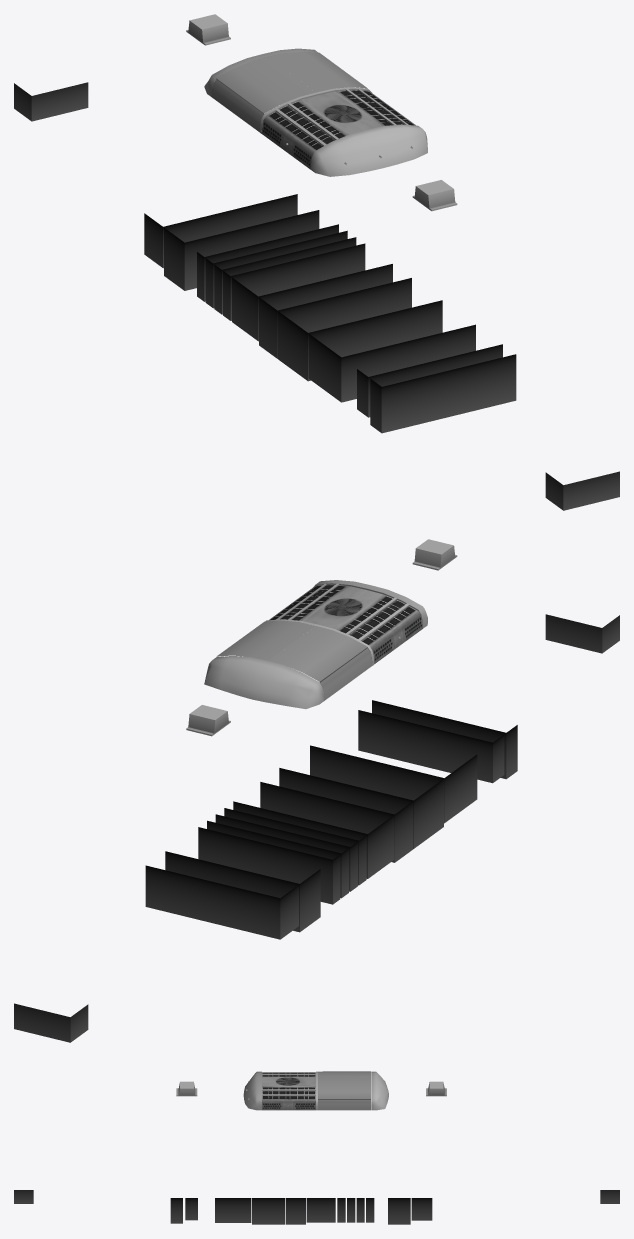
The model's file is KQ_N_PANTA.glb.
The picture shows the model from 3 angles, top to bottom: view 1: azimuth 30°, elevation 25°; view 2: azimuth 150°, elevation 25°; view 3: azimuth 270°, elevation 25°; orthographic projection. The views are drawn at different scales.
Visible parts, largest first — view 1: obj1; view 2: obj1; view 3: obj1.
Boxes of the visible parts, x1=… form: obj1: x1=14, y1=14, x2=619, y2=510; obj1: x1=14, y1=539, x2=619, y2=1042; obj1: x1=14, y1=1071, x2=619, y2=1224.
Bounding box in the file's own units: 5.24 × 8.51 × 37.06.
Materials: 2 (2 with a texture image).
